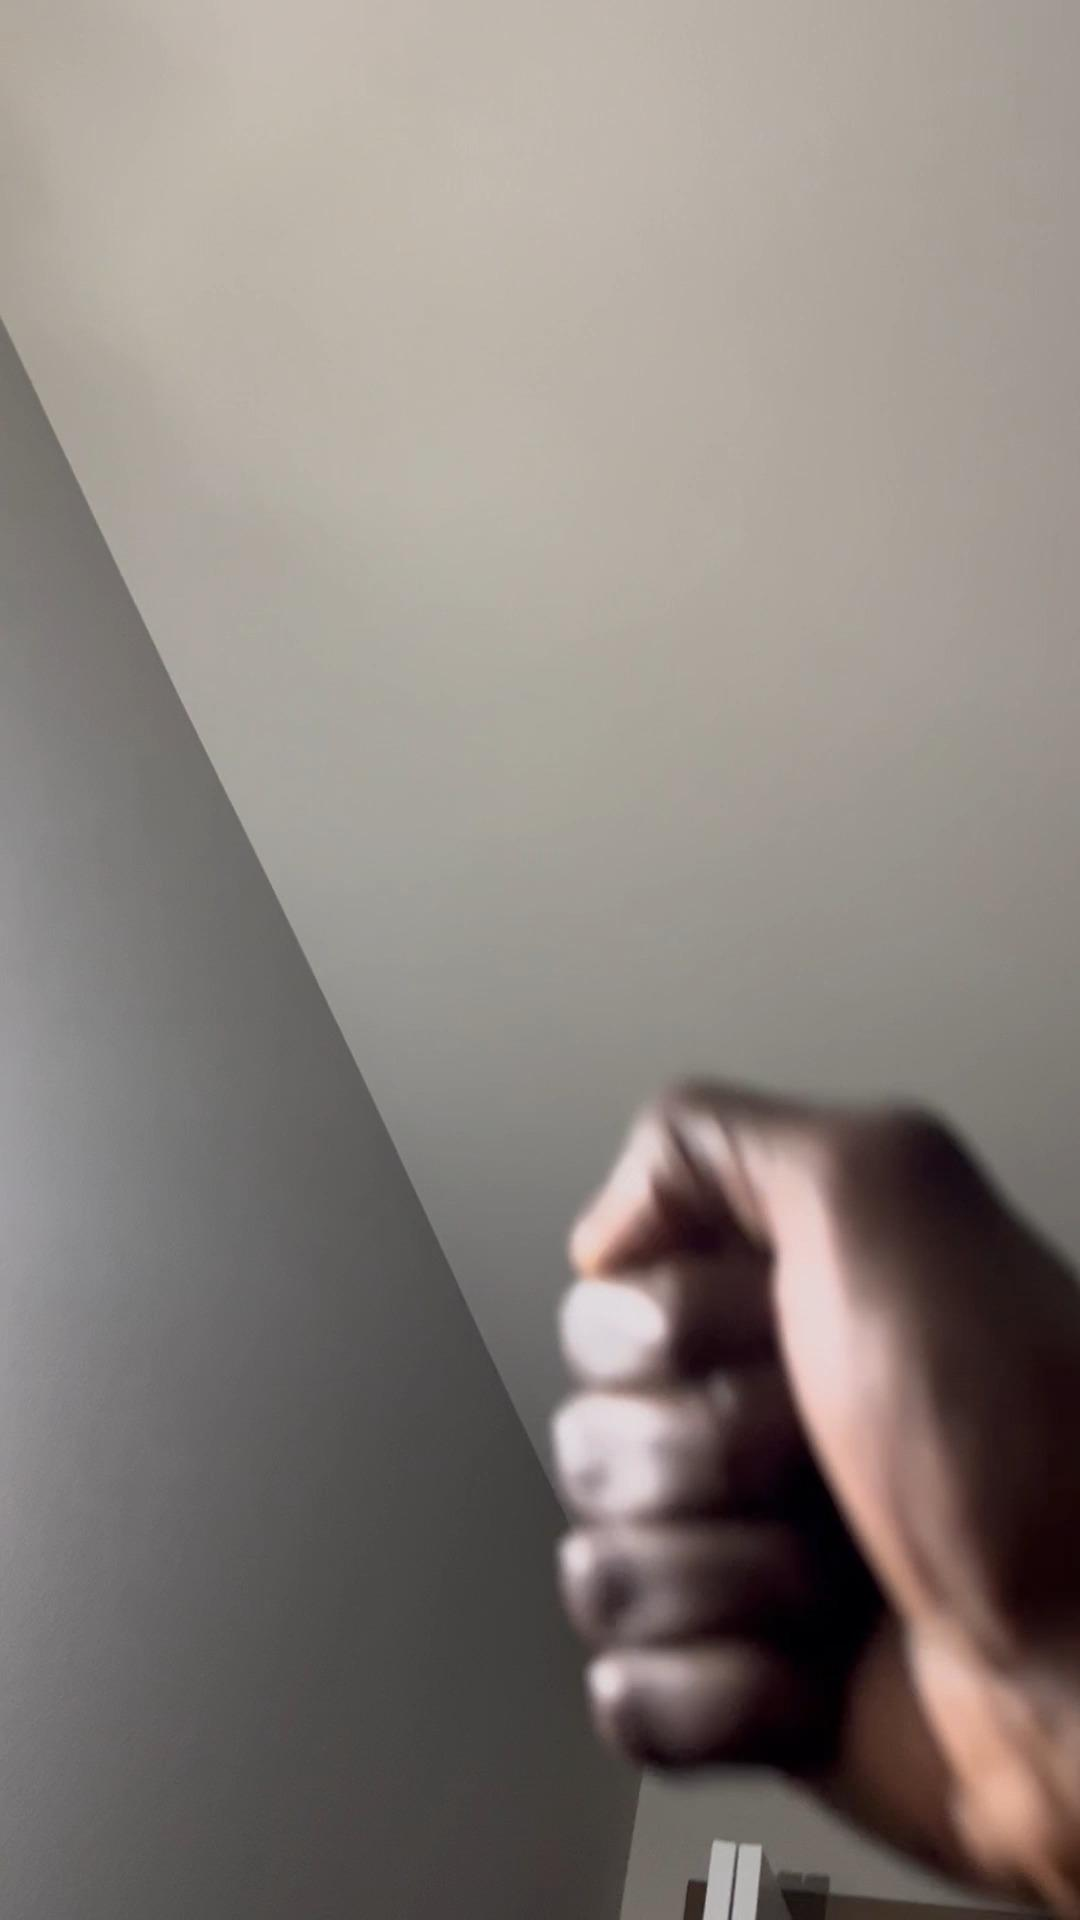Rock: (550, 1073, 1080, 1895)
